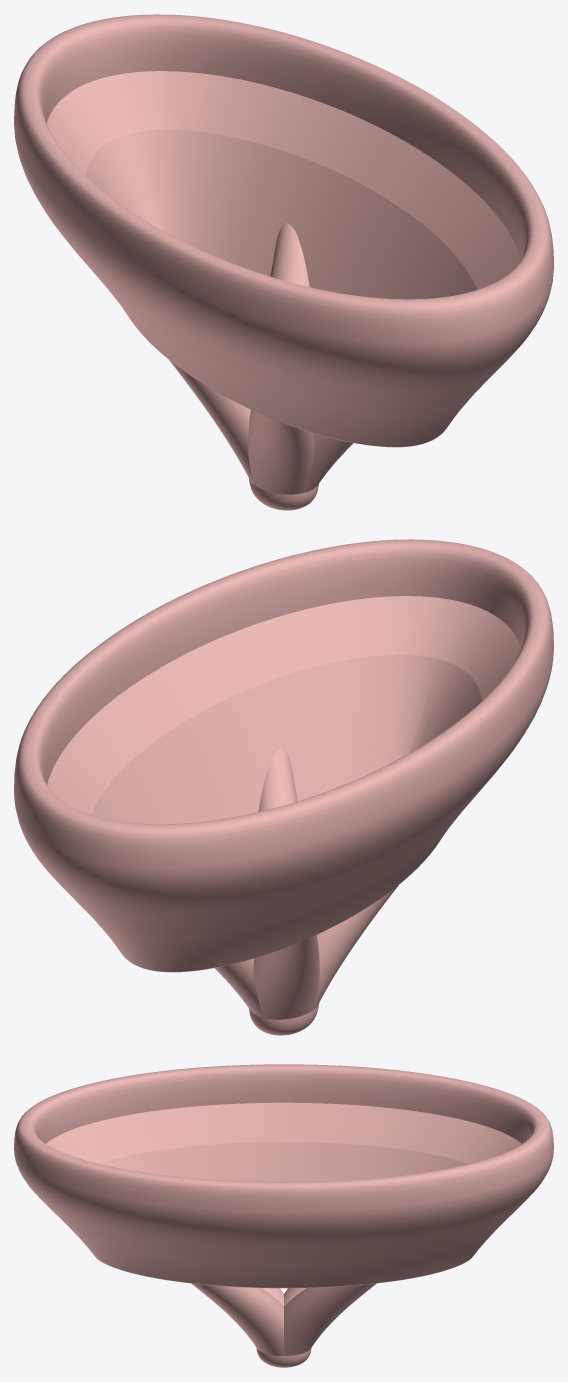
File: MOVAL.glb
3 renders of one model, top to bottom at view 1: azimuth 30°, elevation 25°; view 2: azimuth 150°, elevation 25°; view 3: azimuth 270°, elevation 25°, orthographic. The views are drawn at different scales.
Visible parts, largest first — view 1: Oval; view 2: Oval; view 3: Oval.
Boxes of the visible parts, x1,y1,x2,y2 form: Oval: [14, 14, 553, 510]; Oval: [14, 539, 553, 1035]; Oval: [14, 1064, 553, 1367].
Size of the model in its own units: 4.53 by 4.01 by 8.18.
